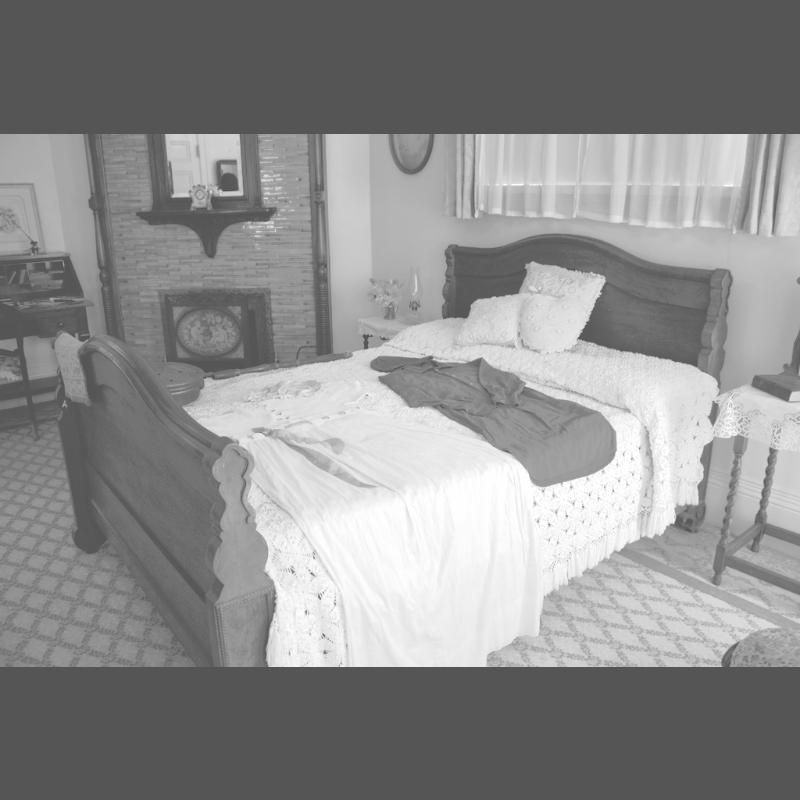pillow: (516, 262, 598, 326), (451, 289, 521, 353)
